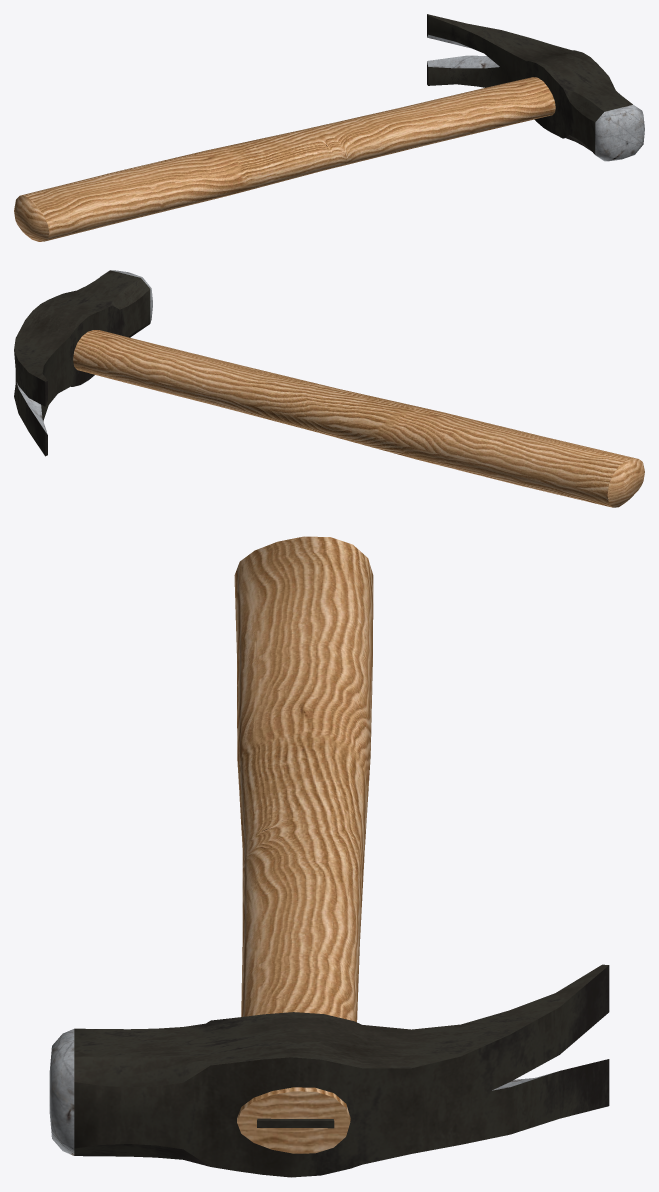
File: early_1800s_pennsylvania_hammer.glb
3 renders of one model, top to bottom at view 1: azimuth 30°, elevation 25°; view 2: azimuth 150°, elevation 25°; view 3: azimuth 270°, elevation 25°, orthographic. The views are drawn at different scales.
Visible parts, largest first — view 1: Early 1800's Pennsylvania Hammer_Copy_Early 1800's Pennsylva; view 2: Early 1800's Pennsylvania Hammer_Copy_Early 1800's Pennsylva; view 3: Early 1800's Pennsylvania Hammer_Copy_Early 1800's Pennsylva.
Part boxes in pixels (x1,y1,x2,y2): Early 1800's Pennsylvania Hammer_Copy_Early 1800's Pennsylva: (14, 14, 644, 241); Early 1800's Pennsylvania Hammer_Copy_Early 1800's Pennsylva: (14, 270, 644, 507); Early 1800's Pennsylvania Hammer_Copy_Early 1800's Pennsylva: (49, 536, 609, 1177).
Bounding box in the file's own units: 0.4124 × 0.0487 × 0.175.
Materials: 1 (1 with a texture image).
